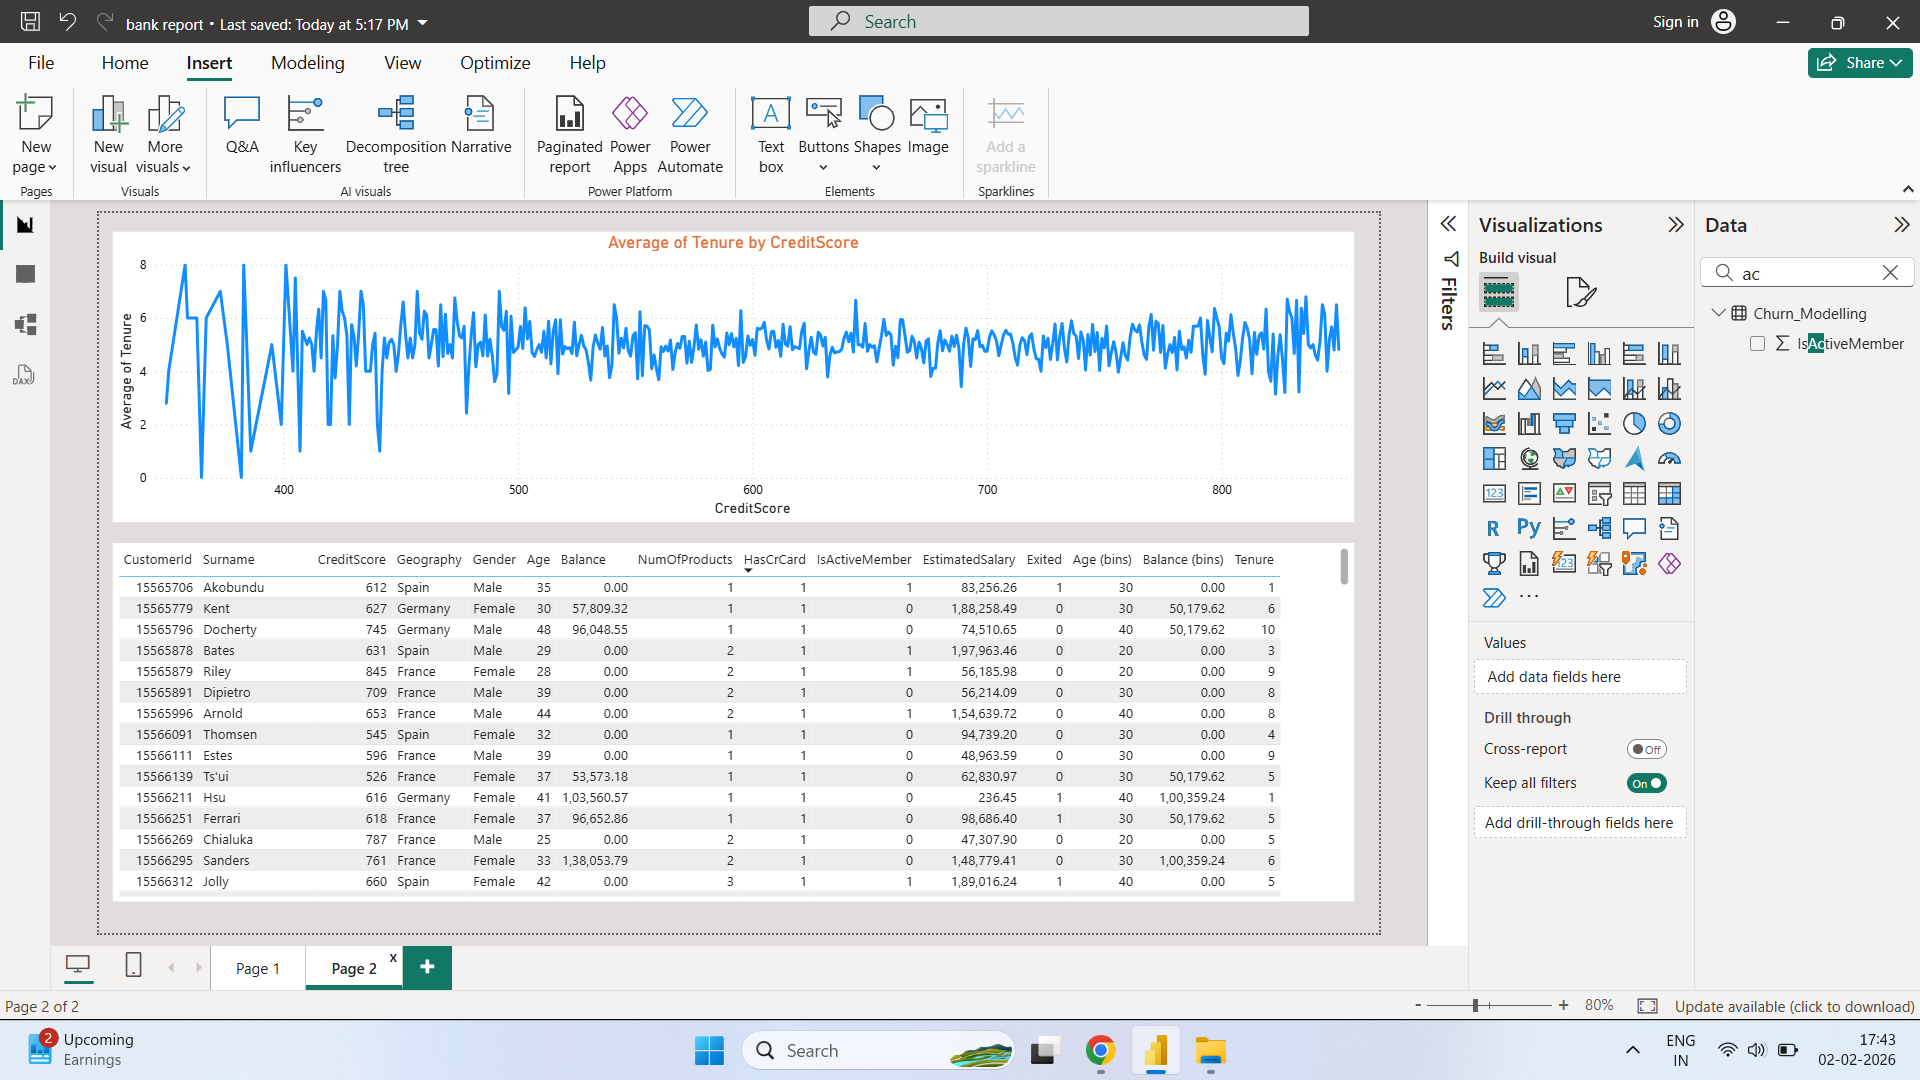

Layout of this report page (visuals, bound fields, positions):
{"tool":"powerbi","page":{"name":"Page 2","canvas":[1280,720],"ordinal":1},"visuals":[{"type":"lineChart","fields":{"Category":["Churn_Modelling.CreditScore"],"Y":["Avg(Churn_Modelling.Tenure)"]},"box":[13.8,18.8,1241.2,290],"z":0},{"type":"tableEx","fields":{"Values":["Churn_Modelling.CustomerId","Churn_Modelling.Surname","Churn_Modelling.CreditScore","Churn_Modelling.Geography","Churn_Modelling.Gender","Churn_Modelling.Age","Churn_Modelling.Balance","Churn_Modelling.NumOfProducts","Churn_Modelling.HasCrCard","Churn_Modelling.IsActiveMember","Churn_Modelling.EstimatedSalary","Churn_Modelling.Exited"]},"box":[13.8,330,1241.2,358.8],"z":1000}]}

Visuals, with their boxes on the page's 1280x720 design canvas (x1, y1, x2, y2). These are canvas units, not pixel positions in the 1920x1080 screenshot, which may show the page scaled, cropped or inside an application window:
lineChart - Churn_Modelling.CreditScore x Avg(Churn_Modelling.Tenure): {"left": 14, "top": 19, "right": 1255, "bottom": 309}
tableEx - Churn_Modelling.CustomerId x Churn_Modelling.Surname: {"left": 14, "top": 330, "right": 1255, "bottom": 689}
